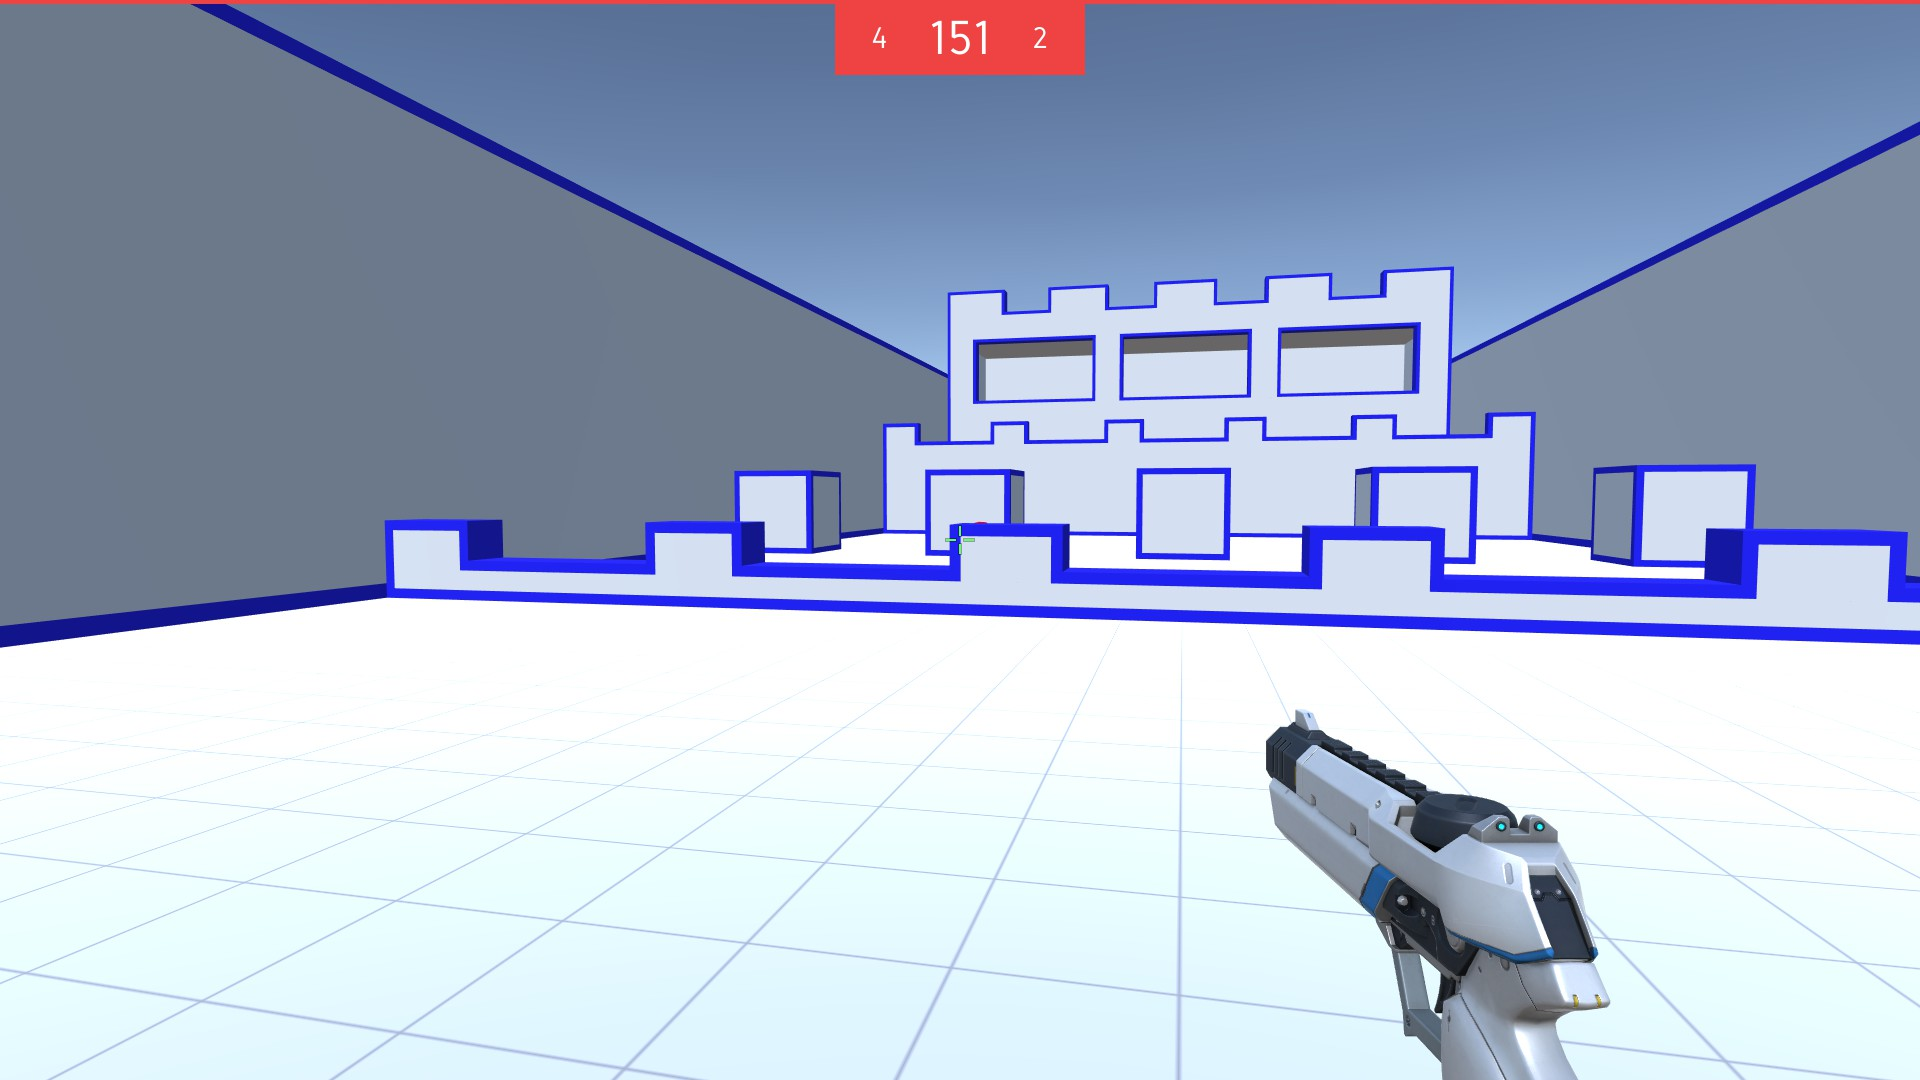target: (973, 520, 992, 526)
